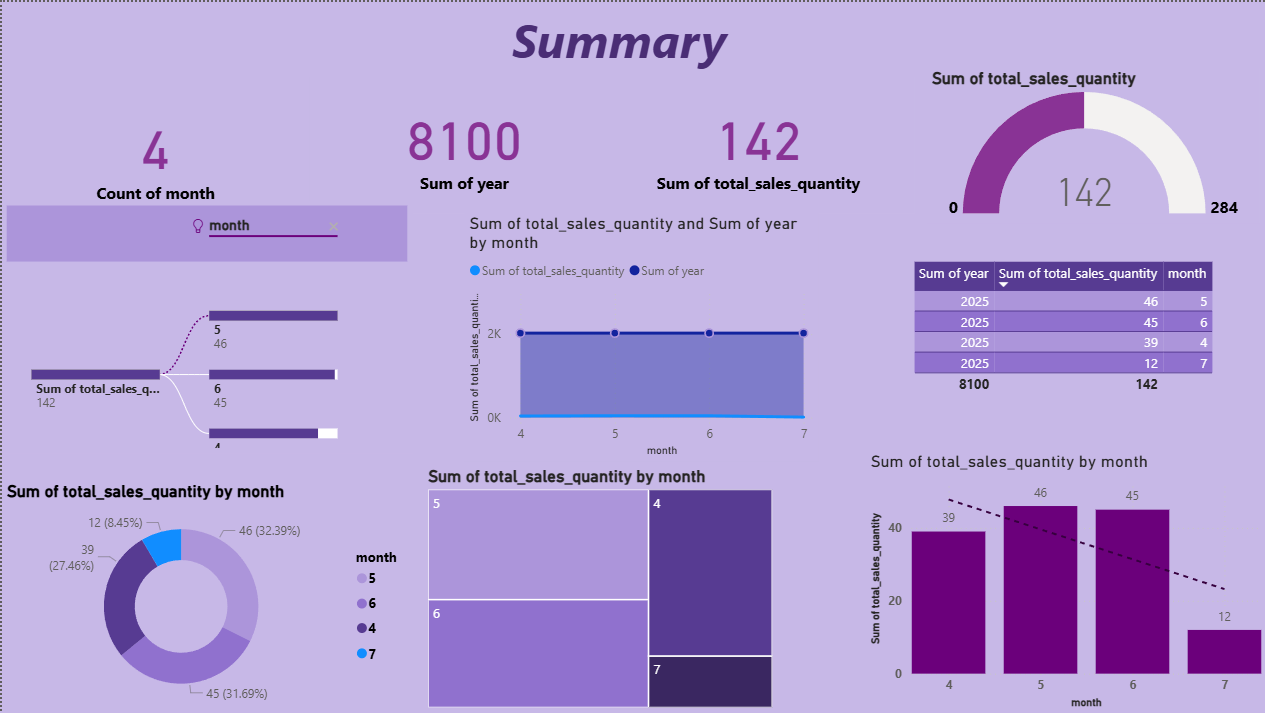

What the dashboard file says about the page in this screenshot:
{"tool":"powerbi","page":{"name":"Page 5","canvas":[1280,720],"ordinal":4},"visuals":[{"type":"textbox","box":[367.1,0,515.7,112.9],"z":0},{"type":"card","fields":{"Values":["Sum(gold_summary.total_sales_quantity)"]},"box":[607.1,75.7,317.1,138.6],"z":1000},{"type":"card","fields":{"Values":["CountNonNull(gold_summary.month)"]},"box":[0,75.7,311.4,157.1],"z":2000},{"type":"card","fields":{"Values":["Sum(gold_summary.year)"]},"box":[311.4,75.7,314.3,138.6],"z":3000},{"type":"gauge","fields":{"Y":["Sum(gold_summary.total_sales_quantity)"]},"box":[937.1,67.1,337.1,157.1],"z":4000},{"type":"clusteredColumnChart","fields":{"Category":["gold_summary.month"],"Y":["Sum(gold_summary.total_sales_quantity)"]},"box":[874.3,454.3,405.7,265.7],"z":5000},{"type":"areaChart","fields":{"Y":["Sum(gold_summary.total_sales_quantity)","Sum(gold_summary.year)"],"Category":["gold_summary.month"]},"box":[468.6,214.3,358.6,251.4],"z":6000},{"type":"tableEx","fields":{"Values":["Sum(gold_summary.year)","Sum(gold_summary.total_sales_quantity)","gold_summary.month"]},"box":[917.1,258.6,320,164.3],"z":7000},{"type":"treemap","fields":{"Group":["gold_summary.month"],"Values":["Sum(gold_summary.total_sales_quantity)"]},"box":[427.1,470,358.6,250],"z":9000},{"type":"donutChart","fields":{"Y":["Sum(gold_summary.total_sales_quantity)"],"Category":["gold_summary.month"]},"box":[0,484.3,427.1,235.7],"z":10000},{"type":"decompositionTreeVisual","fields":{"ExplainBy":["gold_summary.month"],"Analyze":["Sum(gold_summary.total_sales_quantity)"]},"box":[0,201.4,415.7,255.7],"z":11000}]}

Visuals, with their boxes in screenshot pixels (x1, y1, x2, y2), scaled from the page's 1280x720 canvas onto the 1265x713 screenshot:
textbox: [363, 0, 872, 112]
card - Sum(gold_summary.total_sales_quantity): [600, 75, 913, 212]
card - CountNonNull(gold_summary.month): [0, 75, 308, 231]
card - Sum(gold_summary.year): [308, 75, 618, 212]
gauge - Sum(gold_summary.total_sales_quantity): [926, 66, 1259, 222]
clusteredColumnChart - gold_summary.month x Sum(gold_summary.total_sales_quantity): [864, 450, 1264, 712]
areaChart - Sum(gold_summary.total_sales_quantity) x Sum(gold_summary.year): [463, 212, 818, 461]
tableEx - Sum(gold_summary.year) x Sum(gold_summary.total_sales_quantity): [906, 256, 1223, 419]
treemap - gold_summary.month x Sum(gold_summary.total_sales_quantity): [422, 465, 776, 712]
donutChart - Sum(gold_summary.total_sales_quantity) x gold_summary.month: [0, 480, 422, 712]
decompositionTreeVisual - gold_summary.month x Sum(gold_summary.total_sales_quantity): [0, 199, 411, 453]
